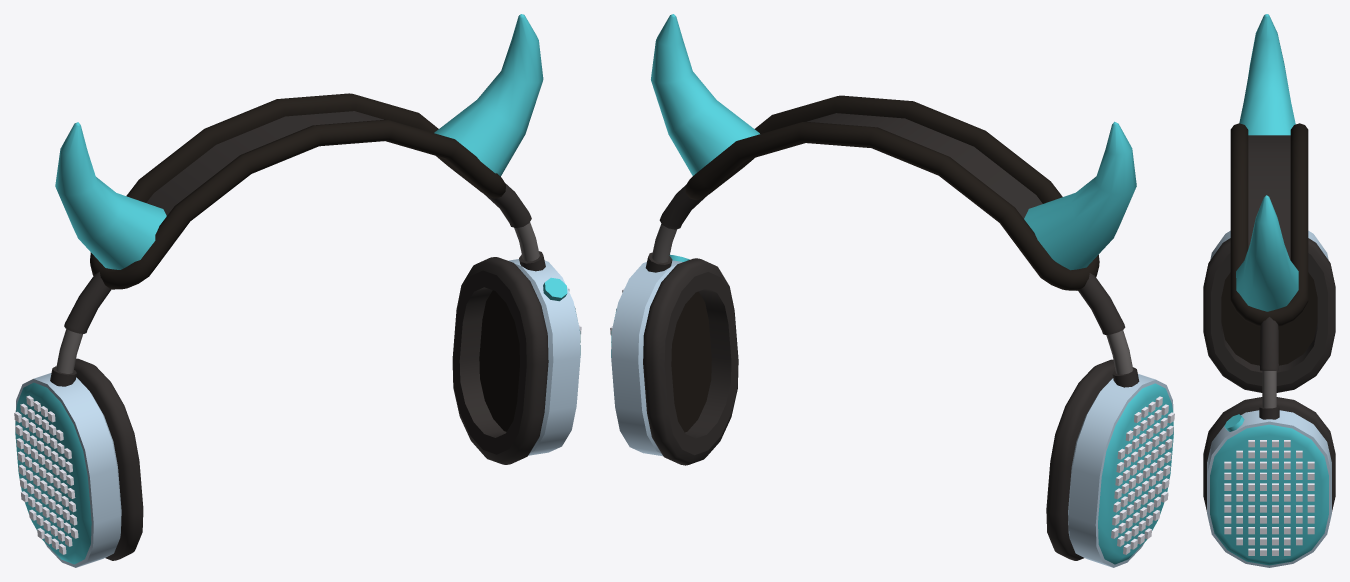
File: Headphones_02_02.fbx
3 renders of one model, left to right at view 1: azimuth 30°, elevation 25°; view 2: azimuth 150°, elevation 25°; view 3: azimuth 270°, elevation 25°, orthographic. The views are drawn at different scales.
Parts seen in each view (by area): view 1: Headphones_02_02; view 2: Headphones_02_02; view 3: Headphones_02_02.
Boxes of the visible parts, <box> form: Headphones_02_02: <box>14,14,581,567</box>; Headphones_02_02: <box>610,14,1174,567</box>; Headphones_02_02: <box>1203,14,1335,567</box>.
Size of the model in its own units: 47.63 by 38.67 by 12.55.
